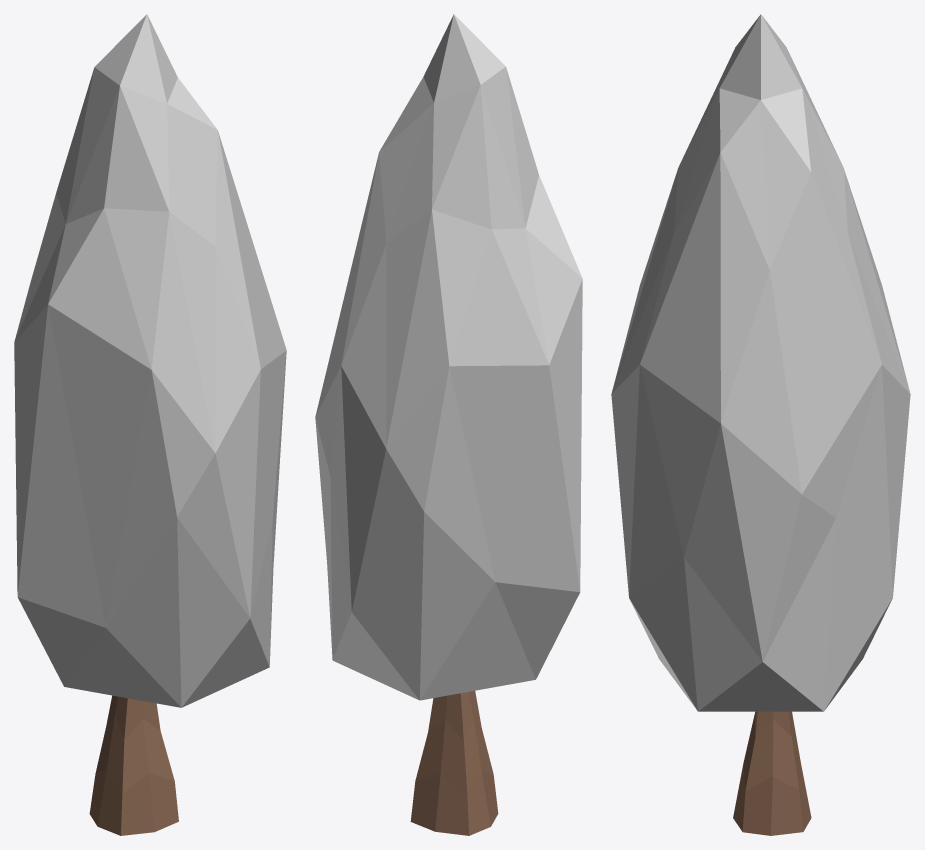
File: Tree_46_White.fbx
3 renders of one model, left to right at view 1: azimuth 30°, elevation 25°; view 2: azimuth 150°, elevation 25°; view 3: azimuth 270°, elevation 25°, orthographic.
Parts seen in each view (by area): view 1: Tree_46_White_Part_1, Tree_46_White_Part_2; view 2: Tree_46_White_Part_1, Tree_46_White_Part_2; view 3: Tree_46_White_Part_1, Tree_46_White_Part_2.
Part boxes in pixels (x1,y1,x2,y2): Tree_46_White_Part_1: (14,14,286,707); Tree_46_White_Part_2: (89,695,178,835); Tree_46_White_Part_1: (315,14,582,700); Tree_46_White_Part_2: (410,690,498,835); Tree_46_White_Part_1: (611,14,910,711); Tree_46_White_Part_2: (733,711,811,835).
Size of the model in its own units: 265 by 797 by 268.
